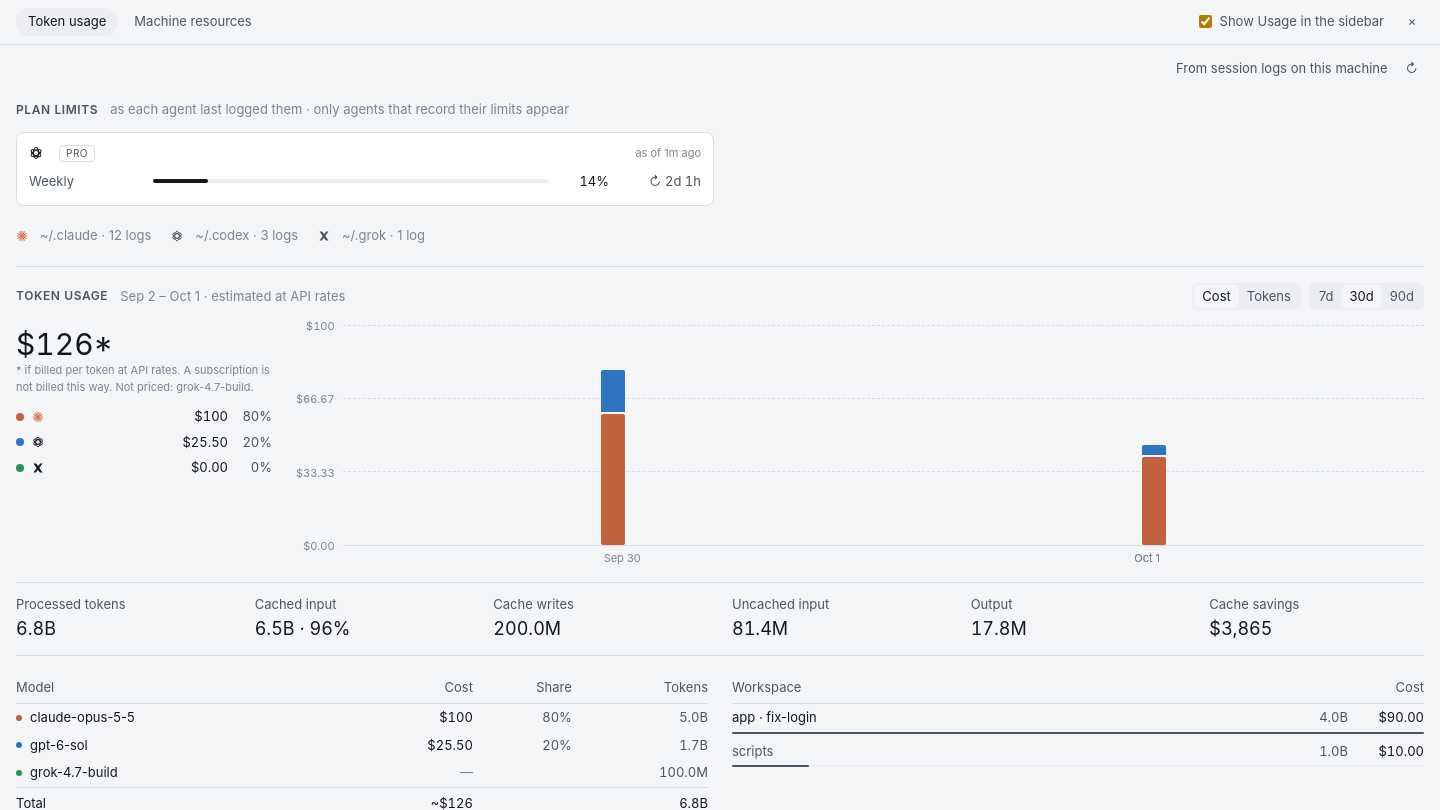
Test case: Usage › breaks the machine down by project, workspace and terminal, and samples every two seconds
Click the tab "Machine resources" at x=193, y=22, box [122,8,264,36]
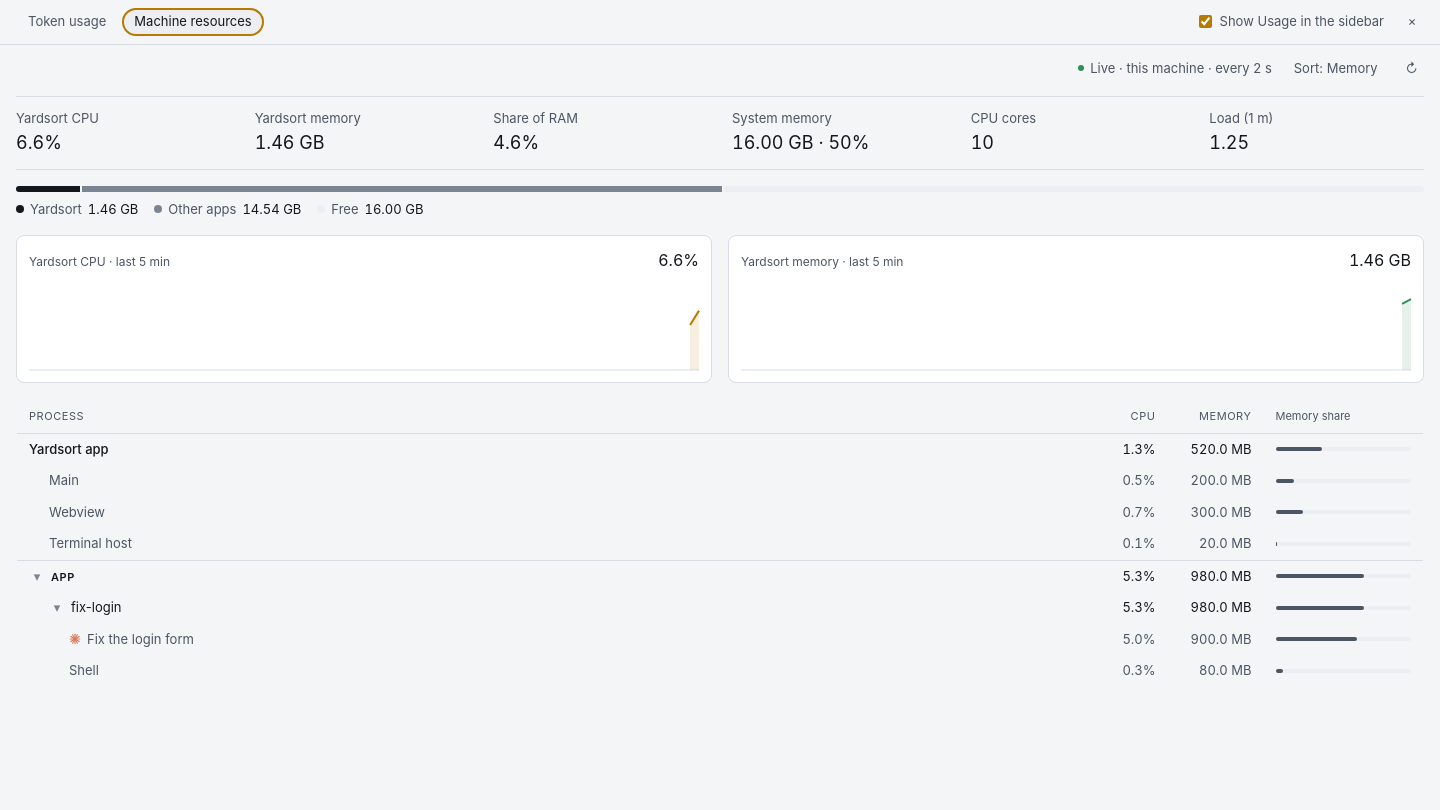
Now the text "Yardsort memory" is shown, box [255,110,361,126]
Now the text "1.46 GB" next to "4.6%" is shown, box [255,132,325,152]
Now the text "1.25" is shown, box [1209,132,1249,152]
Click the button named "Collapse fix-login" at x=57, y=608, box [49,598,65,618]
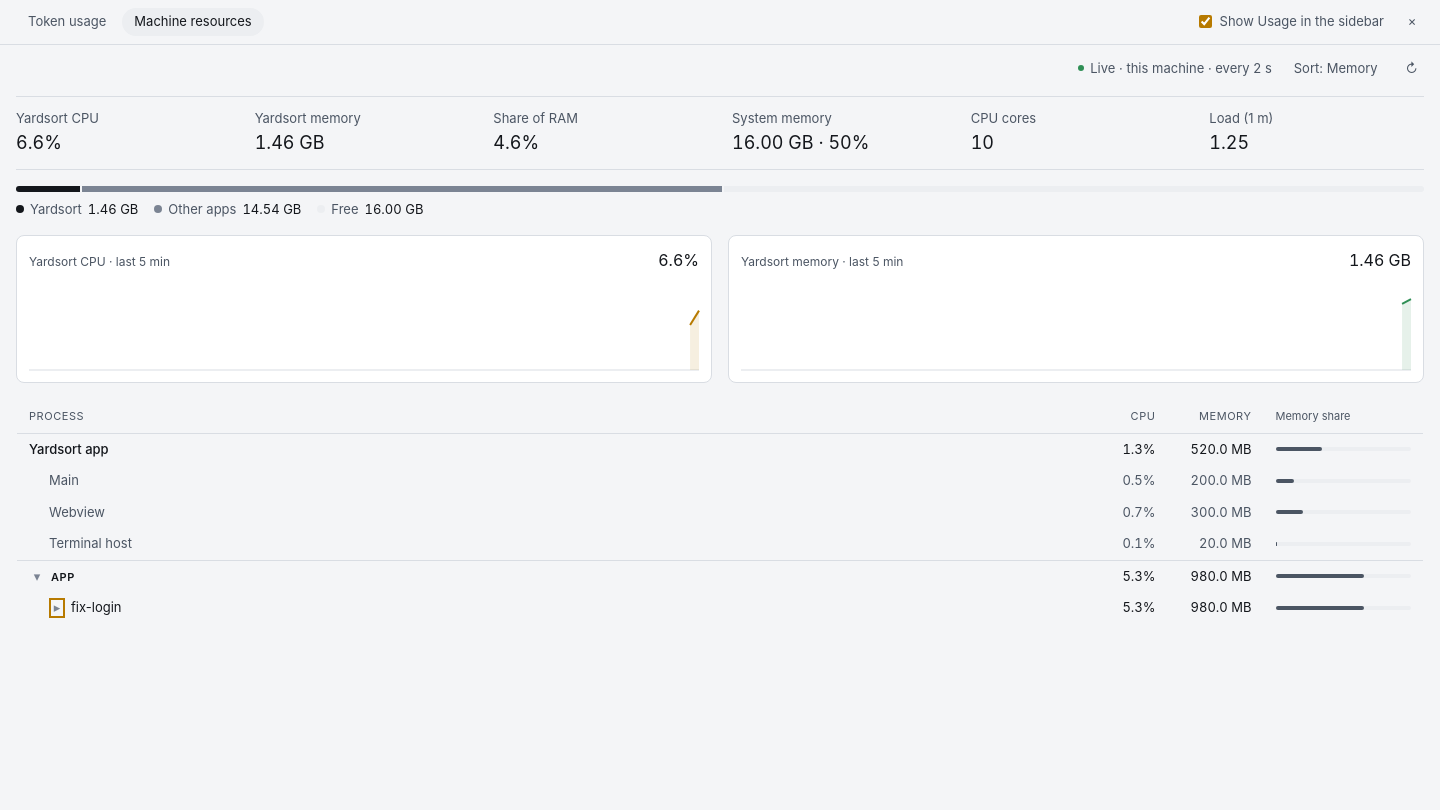
Now the text "Fix the login form" is gone
Click the button named "Collapse app" at x=37, y=576, box [29,566,45,586]
Wait 2000 ms
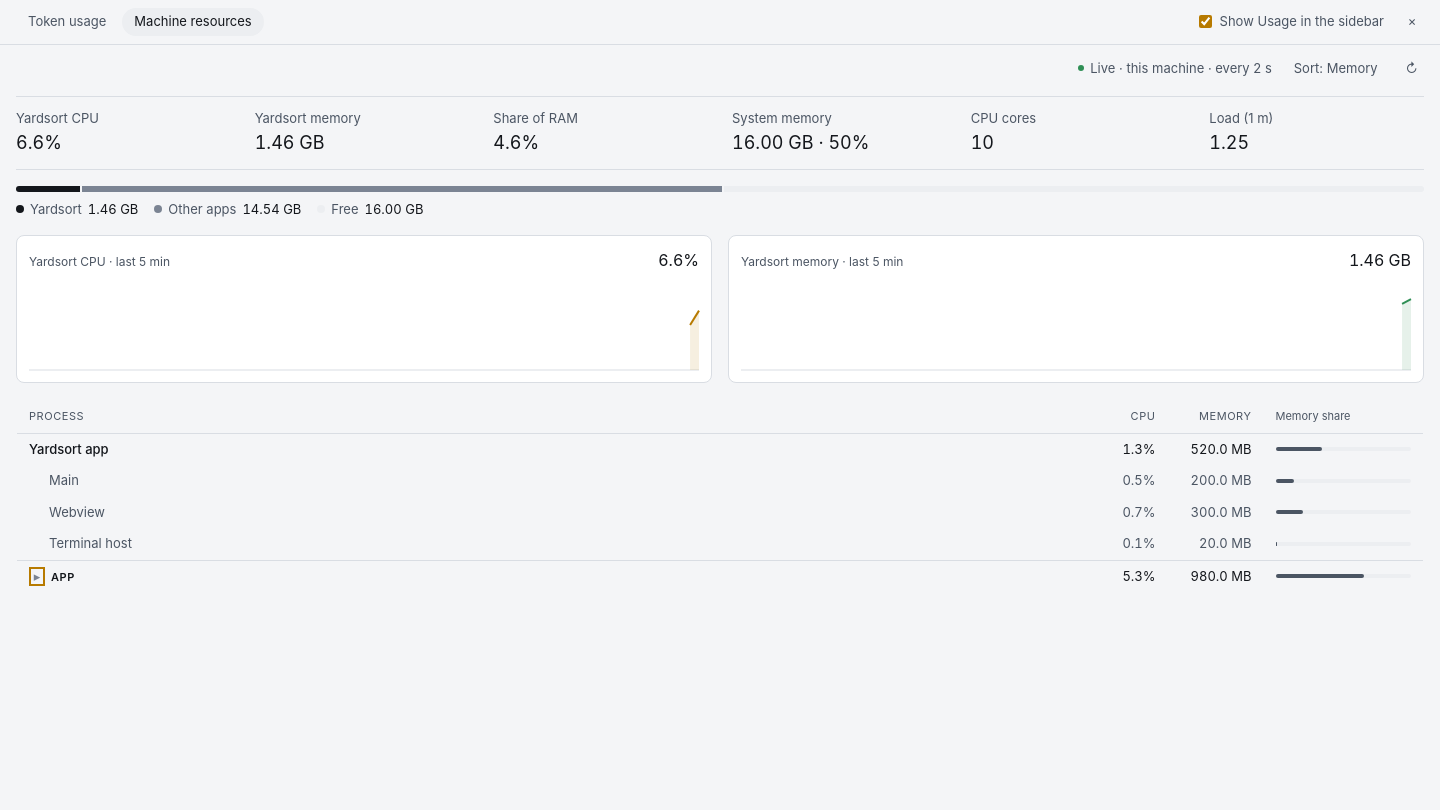
Now the button "fix-login" is gone
